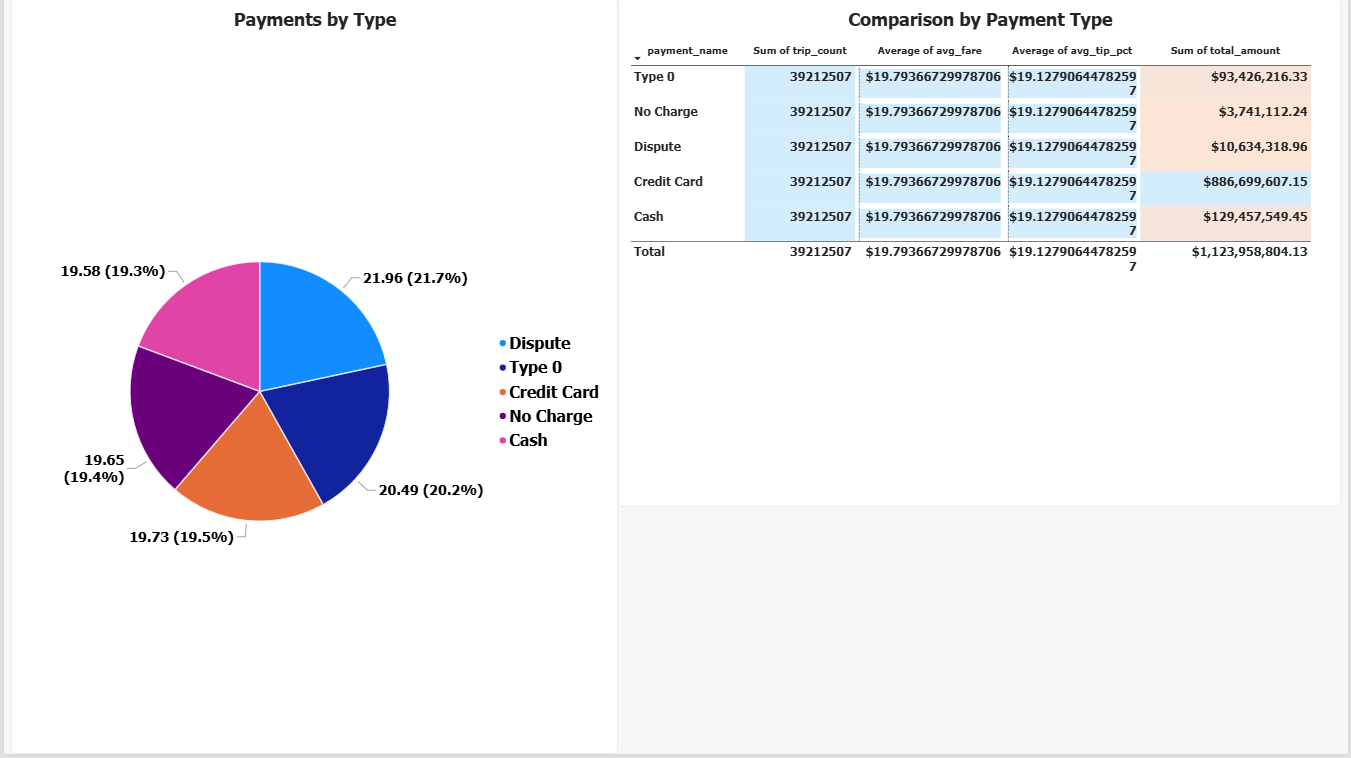

What the dashboard file says about the page in this screenshot:
{"tool":"powerbi","page":{"name":"Payment","canvas":[1920,1080],"ordinal":3},"visuals":[{"type":"pieChart","title":"Payments by Type","fields":{"Category":["Payment.payment_name"],"Y":["Sum(Payment.fare_amount)"]},"box":[10,0,866.7,1080],"z":0},{"type":"tableEx","title":"Comparison by Payment Type","fields":{"Values":["Payment.payment_name","Sum(Monthly.trip_count)","Avg(Monthly.avg_fare)","Avg(Monthly.avg_tip_pct)","Sum(Payment.total_amount)"]},"box":[876.7,0,1033.3,726.7],"z":1}]}

Visuals, with their boxes in screenshot pixels (x1, y1, x2, y2), scaled from the page's 1920x1080 canvas onto the 1351x758 screenshot:
"Payments by Type" pieChart: crop(7, 0, 617, 757)
"Comparison by Payment Type" tableEx: crop(617, 0, 1344, 510)
